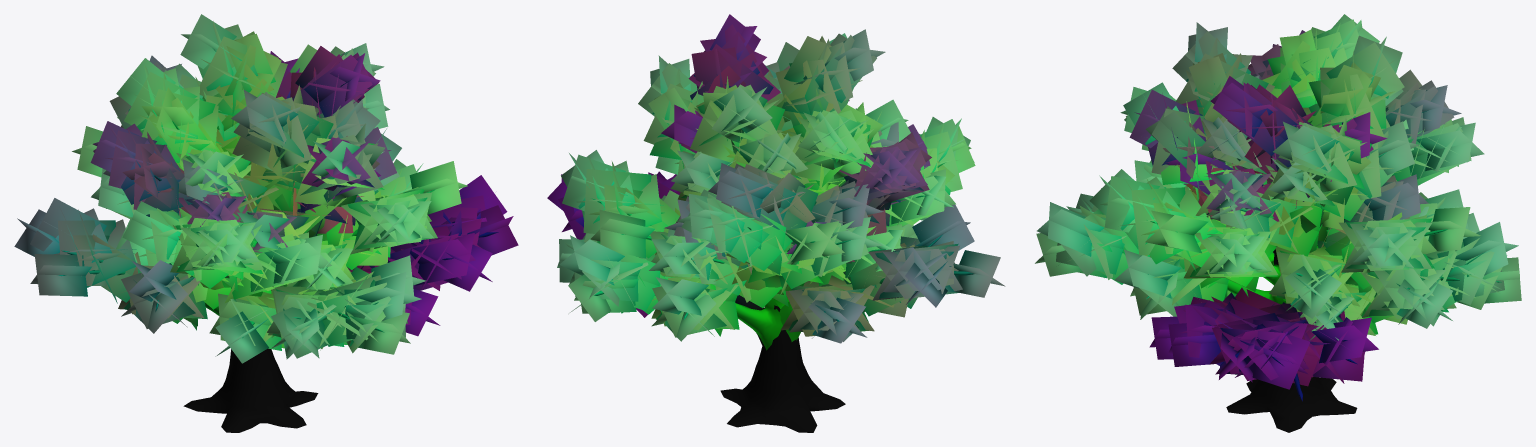
File: Spicebush.fbx
The picture shows the model from 3 angles, left to right: view 1: azimuth 30°, elevation 25°; view 2: azimuth 150°, elevation 25°; view 3: azimuth 270°, elevation 25°; orthographic projection. The views are drawn at different scales.
Visible parts, largest first — view 1: _1, _0; view 2: _1, _0; view 3: _1, _0.
Boxes of the visible parts, <box> form: _1: <box>14,14,518,363</box>; _0: <box>58,48,498,432</box>; _1: <box>547,14,1005,343</box>; _0: <box>591,60,973,432</box>; _1: <box>1035,14,1521,389</box>; _0: <box>1146,83,1501,432</box>.
Size of the model in its own units: 633 by 475 by 577.
